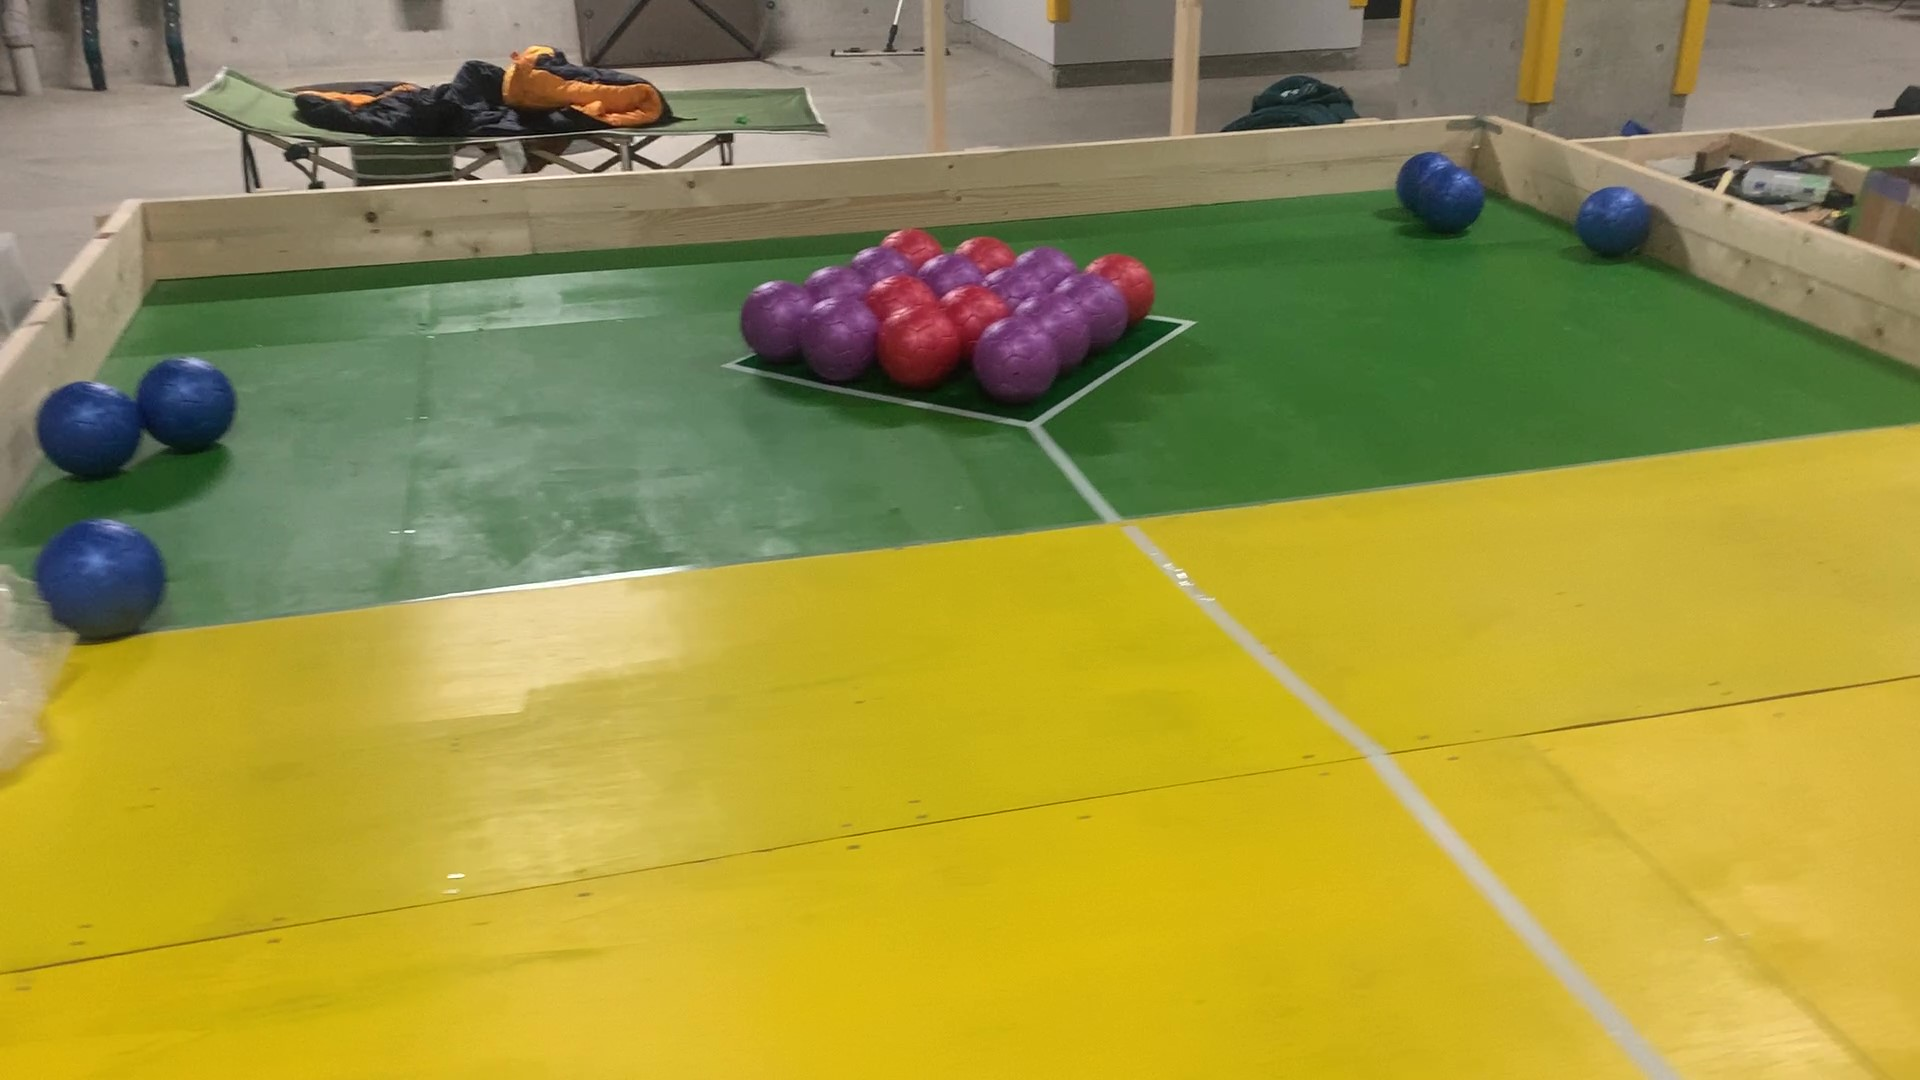blue: (45, 526, 153, 618), (32, 384, 131, 472), (148, 364, 225, 458), (1581, 194, 1638, 247), (1427, 173, 1477, 224), (1402, 156, 1425, 207)
purple: (811, 303, 873, 384), (744, 282, 798, 359), (984, 330, 1046, 394), (1044, 293, 1089, 368), (1091, 276, 1126, 348), (800, 260, 864, 294), (918, 251, 978, 281), (856, 247, 910, 274), (1001, 270, 1040, 298), (1035, 253, 1079, 277)
red: (880, 316, 944, 378), (1126, 253, 1156, 322), (870, 277, 928, 310), (955, 287, 998, 324), (971, 235, 1015, 264), (890, 224, 938, 247)
